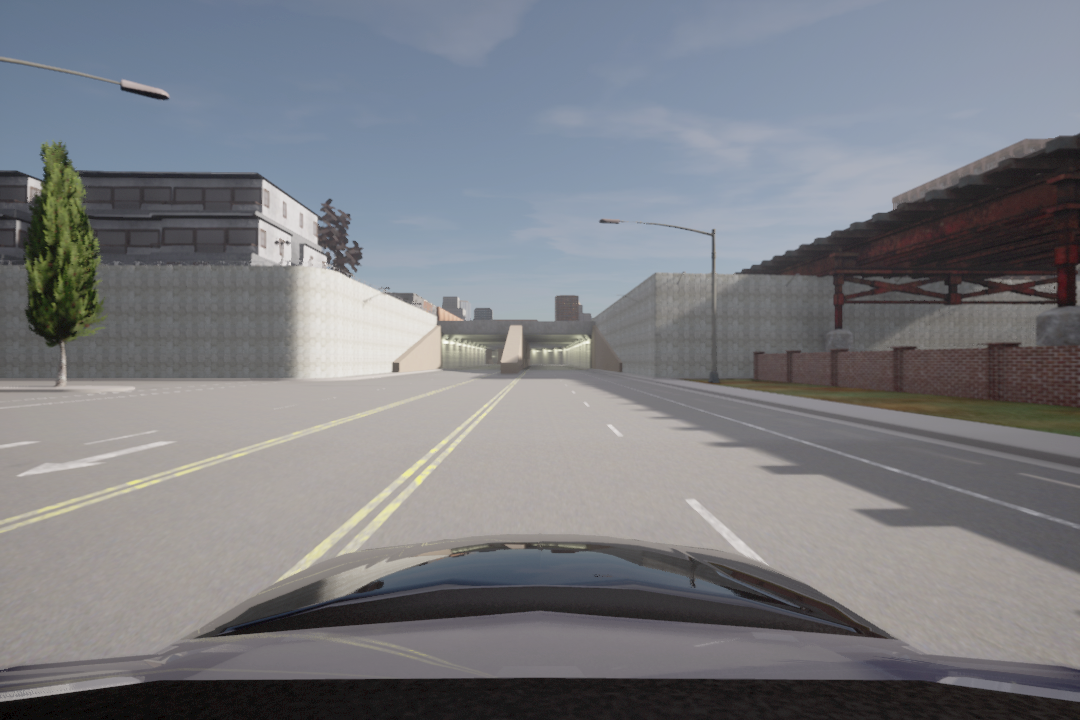RoadSign_forward: (16, 435, 175, 484)
